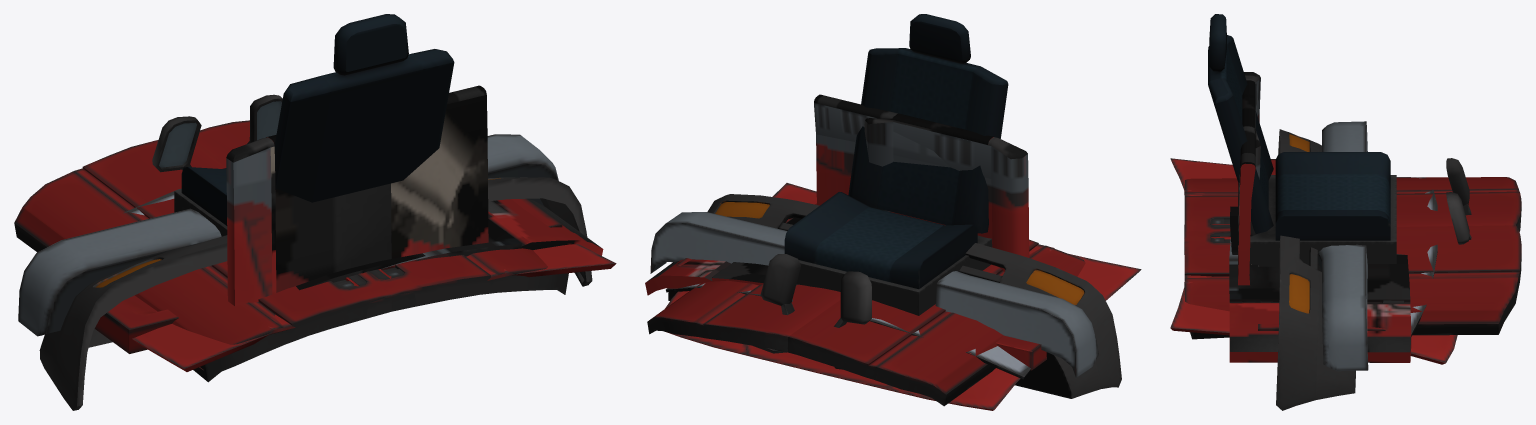
Rendered from toyota_hilux_parts.fbx.
3 views of the same model, side by side, from view 1: azimuth 30°, elevation 25°; view 2: azimuth 150°, elevation 25°; view 3: azimuth 270°, elevation 25° (orthographic). The views are drawn at different scales.
Visible parts, largest first — view 1: toyota_hilux_part_seat_f, toyota_hilux_part_door_fl, toyota_hilux_part_seat_rl, toyota_hilux_part_bumper_r, toyota_hilux_part_bumper_f, toyota_hilux_part_door_fr, toyota_hilux_part_seat_rr, toyota_hilux_part_bonnet, toyota_hilux_part_door_rr, toyota_hilux_part_trunkdoor, toyota_hilux_part_door_rl; view 2: toyota_hilux_part_seat_f, toyota_hilux_part_door_fl, toyota_hilux_part_bumper_r, toyota_hilux_part_seat_rl, toyota_hilux_part_bumper_f, toyota_hilux_part_door_fr, toyota_hilux_part_bonnet, toyota_hilux_part_seat_rr, toyota_hilux_part_door_rr, toyota_hilux_part_windshield, toyota_hilux_part_trunkdoor; view 3: toyota_hilux_part_seat_f, toyota_hilux_part_door_fr, toyota_hilux_part_door_rr, toyota_hilux_part_door_fl, toyota_hilux_part_bumper_f, toyota_hilux_part_bumper_r, toyota_hilux_part_bonnet, toyota_hilux_part_seat_rl, toyota_hilux_part_seat_rr, toyota_hilux_part_windshield, toyota_hilux_part_door_rl.
Boxes of the visible parts, left/top/right/bottom form: toyota_hilux_part_seat_f: left=174, top=14, right=454, bottom=236; toyota_hilux_part_door_fl: left=14, top=94, right=477, bottom=382; toyota_hilux_part_seat_rl: left=226, top=85, right=488, bottom=306; toyota_hilux_part_bumper_r: left=18, top=134, right=558, bottom=336; toyota_hilux_part_bumper_f: left=39, top=177, right=592, bottom=410; toyota_hilux_part_door_fr: left=152, top=116, right=568, bottom=370; toyota_hilux_part_seat_rr: left=266, top=135, right=391, bottom=292; toyota_hilux_part_bonnet: left=132, top=244, right=616, bottom=371; toyota_hilux_part_door_rr: left=380, top=199, right=603, bottom=270; toyota_hilux_part_trunkdoor: left=94, top=198, right=562, bottom=353; toyota_hilux_part_door_rl: left=296, top=231, right=506, bottom=290; toyota_hilux_part_seat_f: left=784, top=14, right=1008, bottom=315; toyota_hilux_part_door_fl: left=760, top=239, right=1085, bottom=406; toyota_hilux_part_bumper_r: left=650, top=212, right=1098, bottom=377; toyota_hilux_part_seat_rl: left=814, top=94, right=1029, bottom=271; toyota_hilux_part_bumper_f: left=668, top=194, right=1121, bottom=398; toyota_hilux_part_door_fr: left=647, top=203, right=871, bottom=354; toyota_hilux_part_bonnet: left=665, top=183, right=1141, bottom=410; toyota_hilux_part_seat_rr: left=864, top=113, right=994, bottom=225; toyota_hilux_part_door_rr: left=645, top=217, right=801, bottom=295; toyota_hilux_part_windshield: left=666, top=283, right=1030, bottom=379; toyota_hilux_part_trunkdoor: left=676, top=258, right=1046, bottom=370; toyota_hilux_part_seat_f: left=1208, top=14, right=1396, bottom=266; toyota_hilux_part_door_fr: left=1184, top=158, right=1521, bottom=339; toyota_hilux_part_door_rr: left=1229, top=238, right=1411, bottom=362; toyota_hilux_part_door_fl: left=1184, top=177, right=1521, bottom=254; toyota_hilux_part_bumper_f: left=1276, top=129, right=1355, bottom=410; toyota_hilux_part_bumper_r: left=1318, top=121, right=1368, bottom=371; toyota_hilux_part_bonnet: left=1170, top=158, right=1457, bottom=364; toyota_hilux_part_seat_rl: left=1238, top=72, right=1260, bottom=285; toyota_hilux_part_seat_rr: left=1238, top=80, right=1260, bottom=240; toyota_hilux_part_windshield: left=1396, top=177, right=1437, bottom=336; toyota_hilux_part_door_rl: left=1230, top=206, right=1404, bottom=303.
Size of the model in its own units: 159 by 105 by 116.
